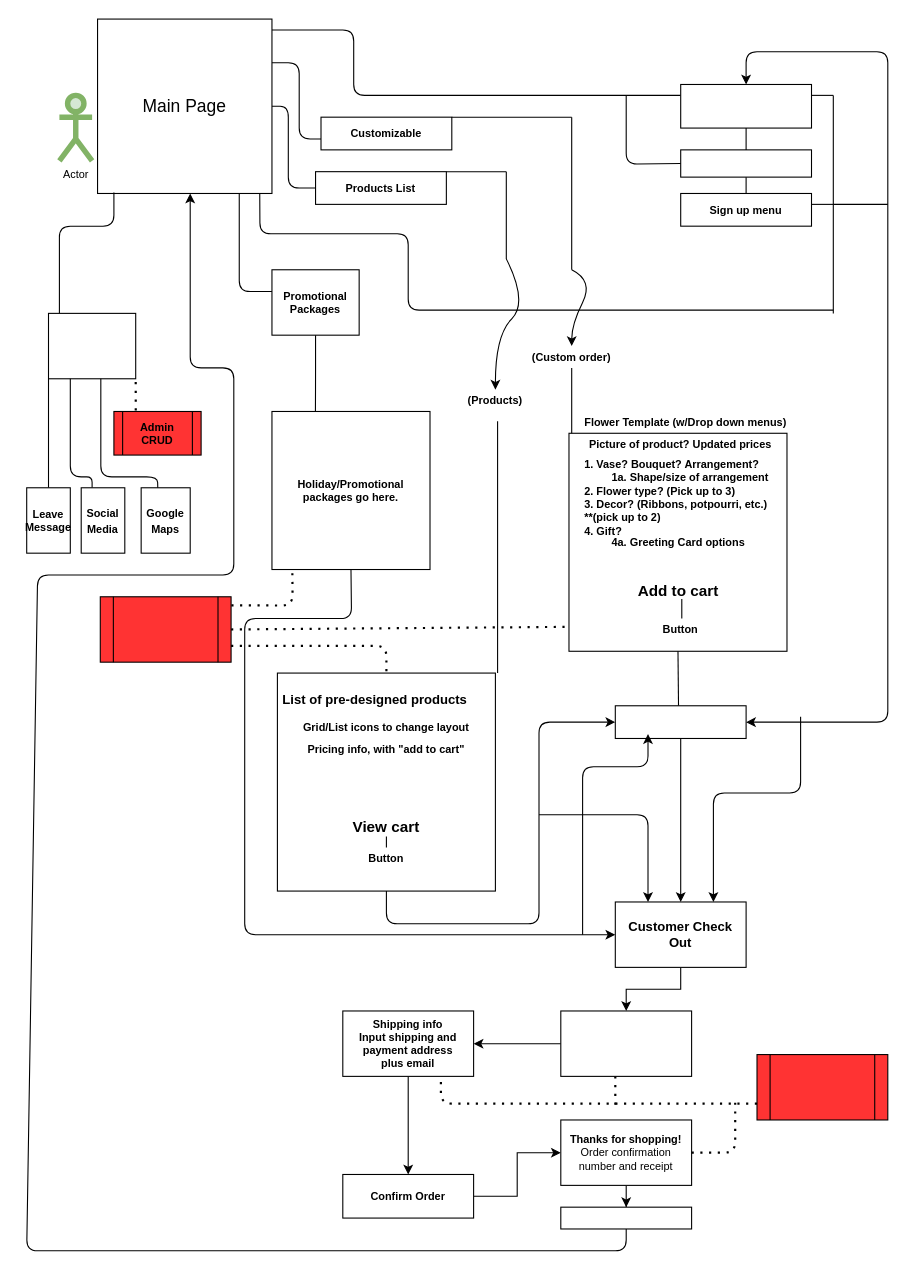
The diagram is 917 pixels wide and 1279 high, and some of its shapes have lost their labels. Each missing label, with the centre of its shape:
"Admin access to order info" belongs at pixel 822 1086.
"Admin product and promotional updates" belongs at pixel 165 629.
"Contact Us" belongs at pixel 91 345.
"Customer Sign-in" belongs at pixel 746 105.
"Go to Main Page" belongs at pixel 626 1217.
"Guest or sign in?" belongs at pixel 680 721.
"Guest User? Sign Up?" belongs at pixel 746 163.
"Payment options *Input card info* *Link to Paypal*" belongs at pixel 626 1043.
